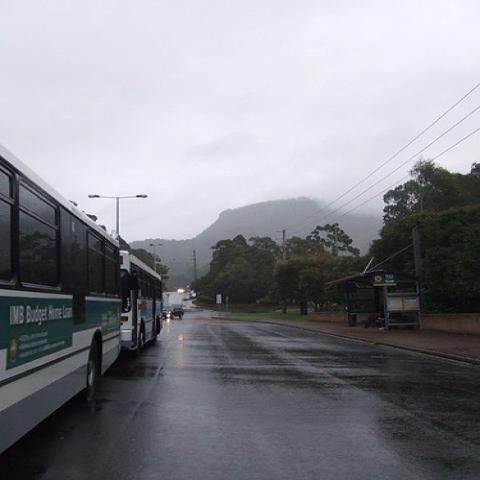bus: (0, 144, 131, 452), (129, 250, 169, 352)
car: (163, 308, 184, 319)
